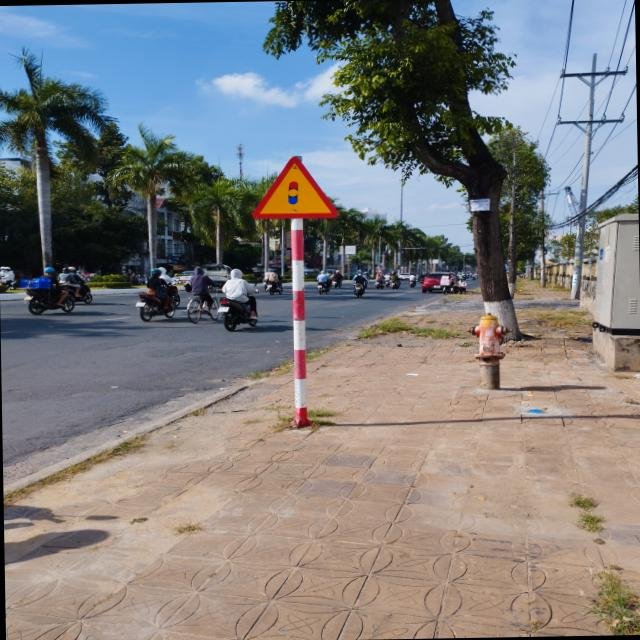Duong_Co_Go_Giam_Toc: (251, 156, 337, 218)
